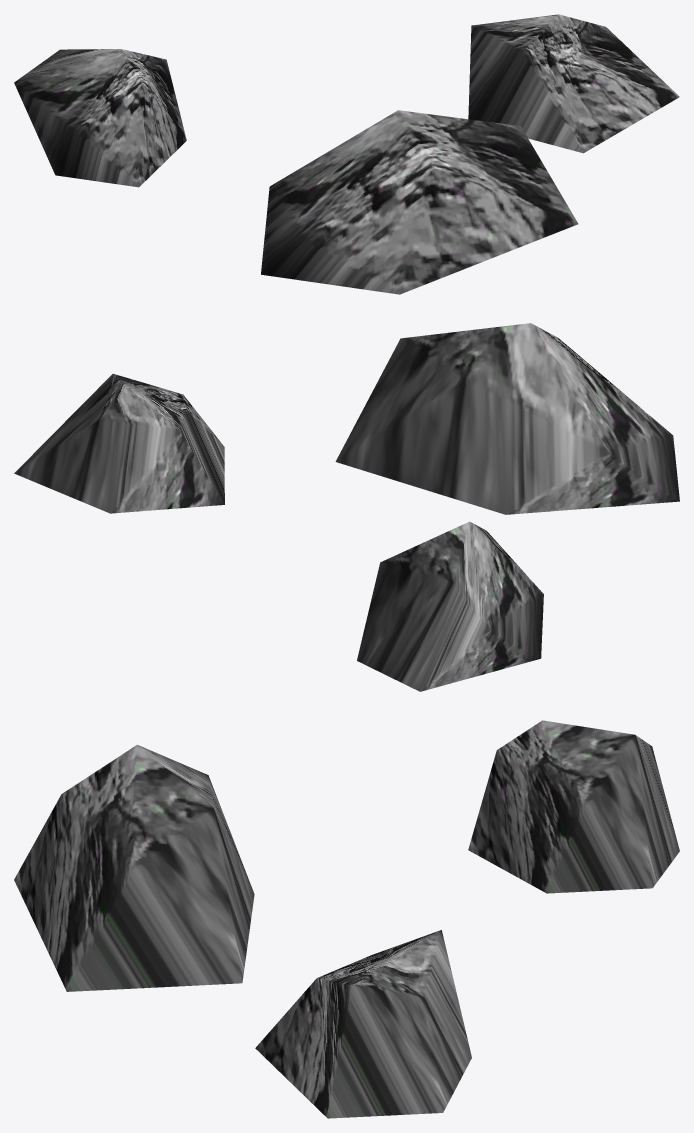
The picture shows the model from 3 angles, top to bottom: view 1: azimuth 30°, elevation 25°; view 2: azimuth 150°, elevation 25°; view 3: azimuth 270°, elevation 25°; orthographic projection. The views are drawn at different scales.
Visible parts, largest first — view 1: Stone04; view 2: Stone04; view 3: Stone04.
Part boxes in pixels (box(x1,y1,x2,y2)): Stone04: box(14, 14, 679, 294); Stone04: box(14, 323, 679, 691); Stone04: box(14, 720, 679, 1118).
Bounding box in the file's own units: 115 × 30.13 × 102.
